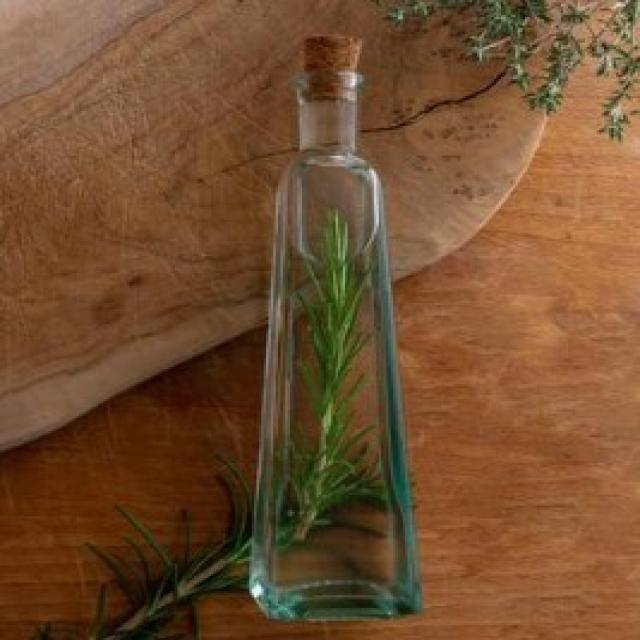electronic: (242, 34, 427, 624)
